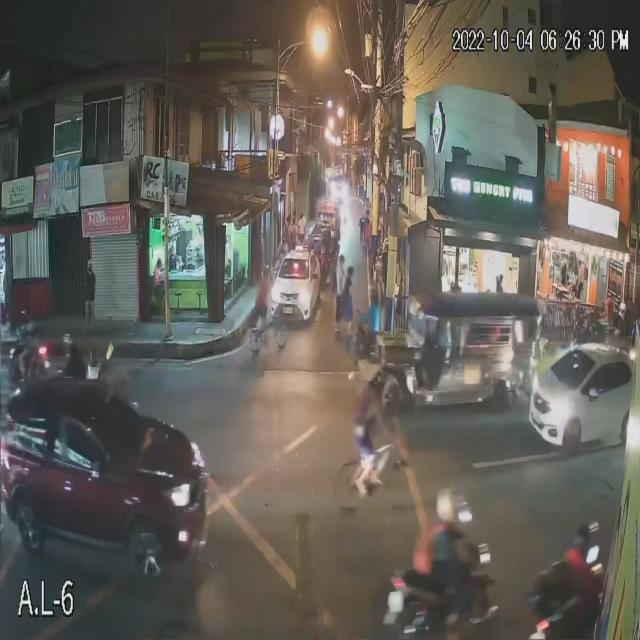Full-Faced: (438, 483, 460, 524)
